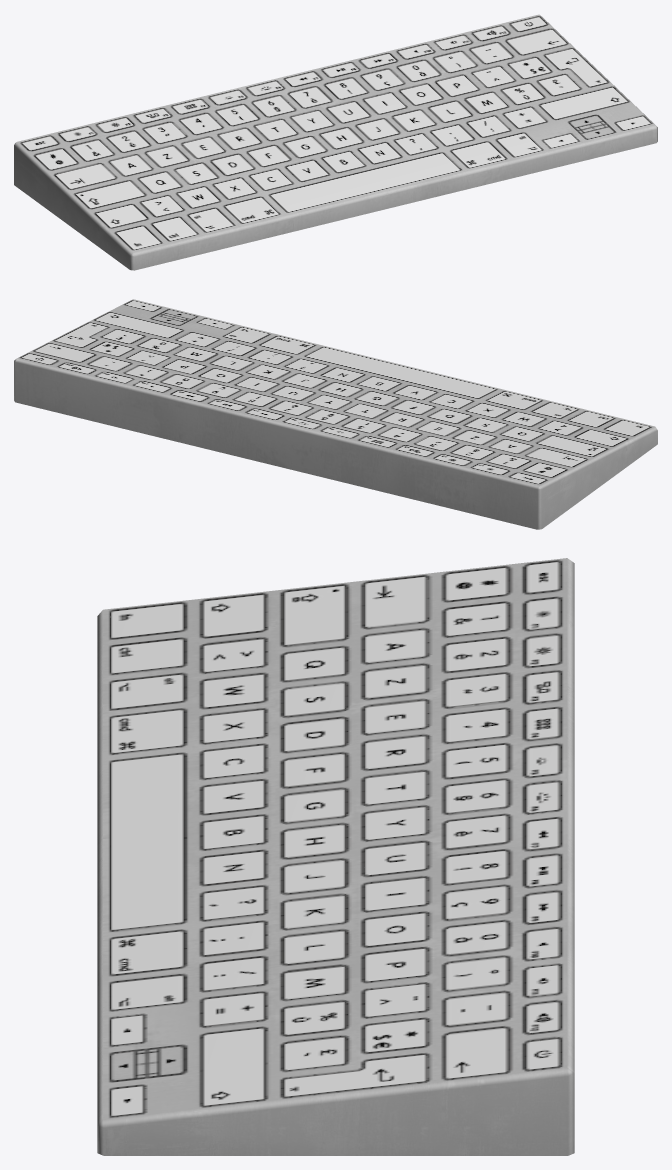
File: keyboardMesh.fbx
3 views of the same model, one above another, from view 1: azimuth 30°, elevation 25°; view 2: azimuth 150°, elevation 25°; view 3: azimuth 270°, elevation 25° (orthographic). The views are drawn at different scales.
Visible parts, largest first — view 1: pCube1; view 2: pCube1; view 3: pCube1.
Boxes of the visible parts, box(x1,y1,x2,y2) form: pCube1: box(14, 14, 657, 270); pCube1: box(14, 299, 657, 529); pCube1: box(97, 558, 574, 1155).
Size of the model in its own units: 248 by 19.16 by 96.95.
